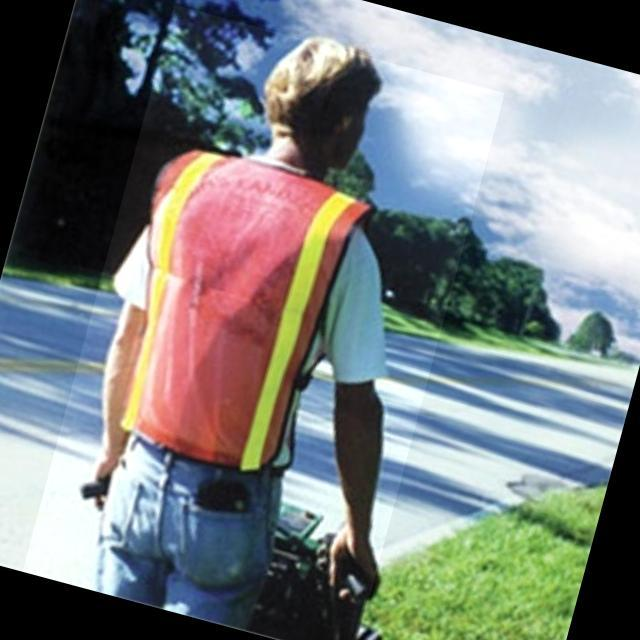Person: (51, 4, 427, 640)
Safety Vest: (95, 126, 365, 499)
bare-arms: (325, 515, 393, 607)
no-helmet: (264, 28, 386, 115)
